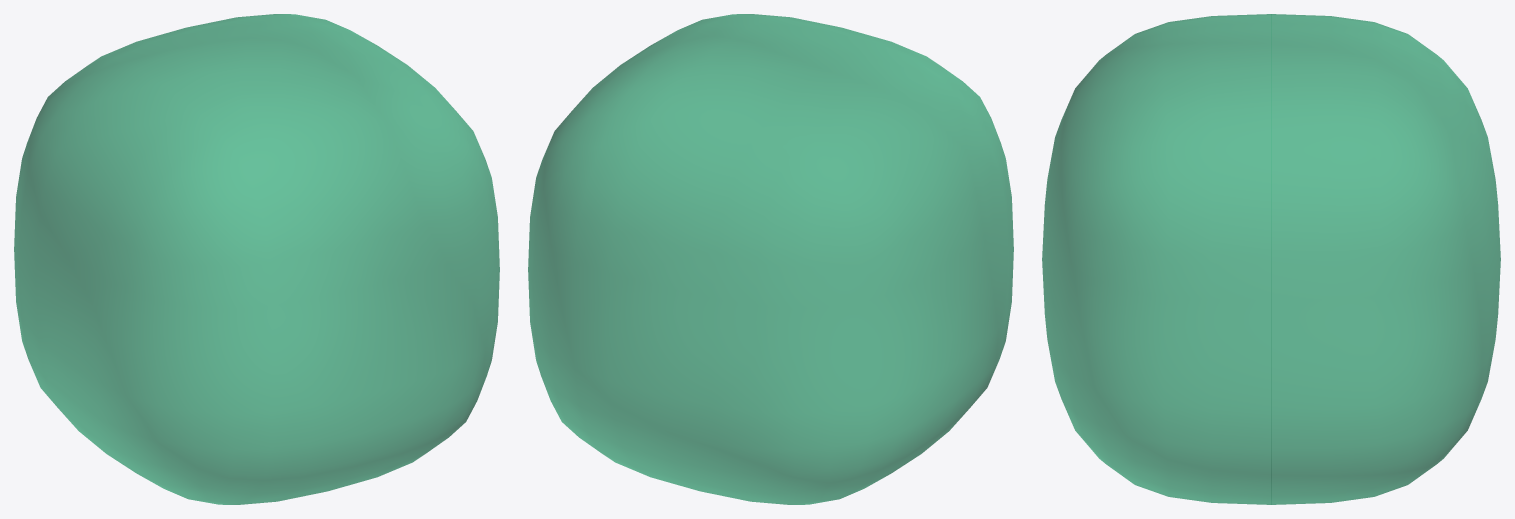
File: br-m-bubble-green.fbx
The picture shows the model from 3 angles, left to right: view 1: azimuth 30°, elevation 25°; view 2: azimuth 150°, elevation 25°; view 3: azimuth 270°, elevation 25°; orthographic projection. The views are drawn at different scales.
Visible parts, largest first — view 1: bubble_green_m; view 2: bubble_green_m; view 3: bubble_green_m.
Boxes of the visible parts, x1,y1,x2,y2 form: bubble_green_m: (14, 14, 499, 504); bubble_green_m: (528, 14, 1013, 504); bubble_green_m: (1042, 14, 1500, 504).
Size of the model in its own units: 1 by 1 by 1.
